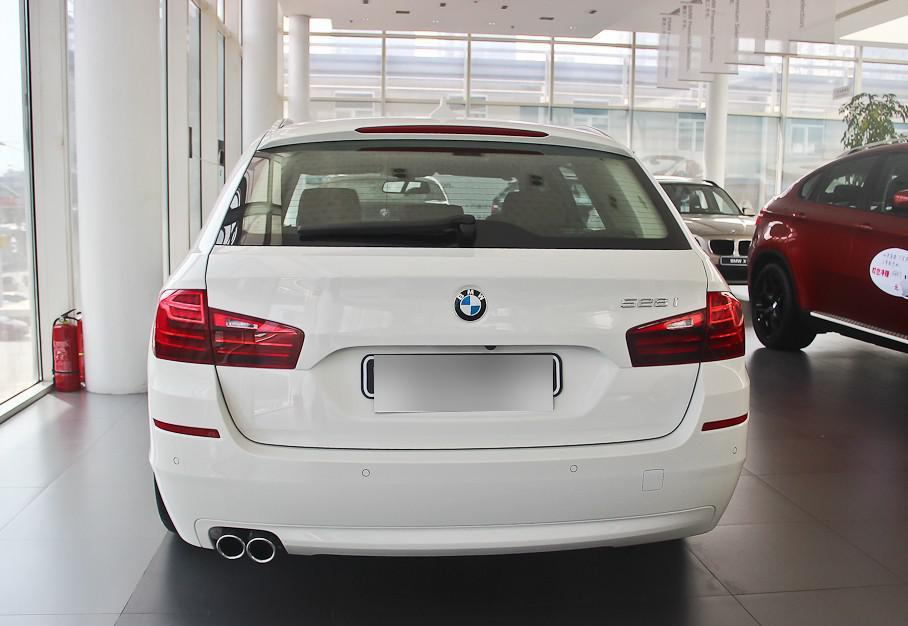Wagon: (149, 118, 750, 567)
